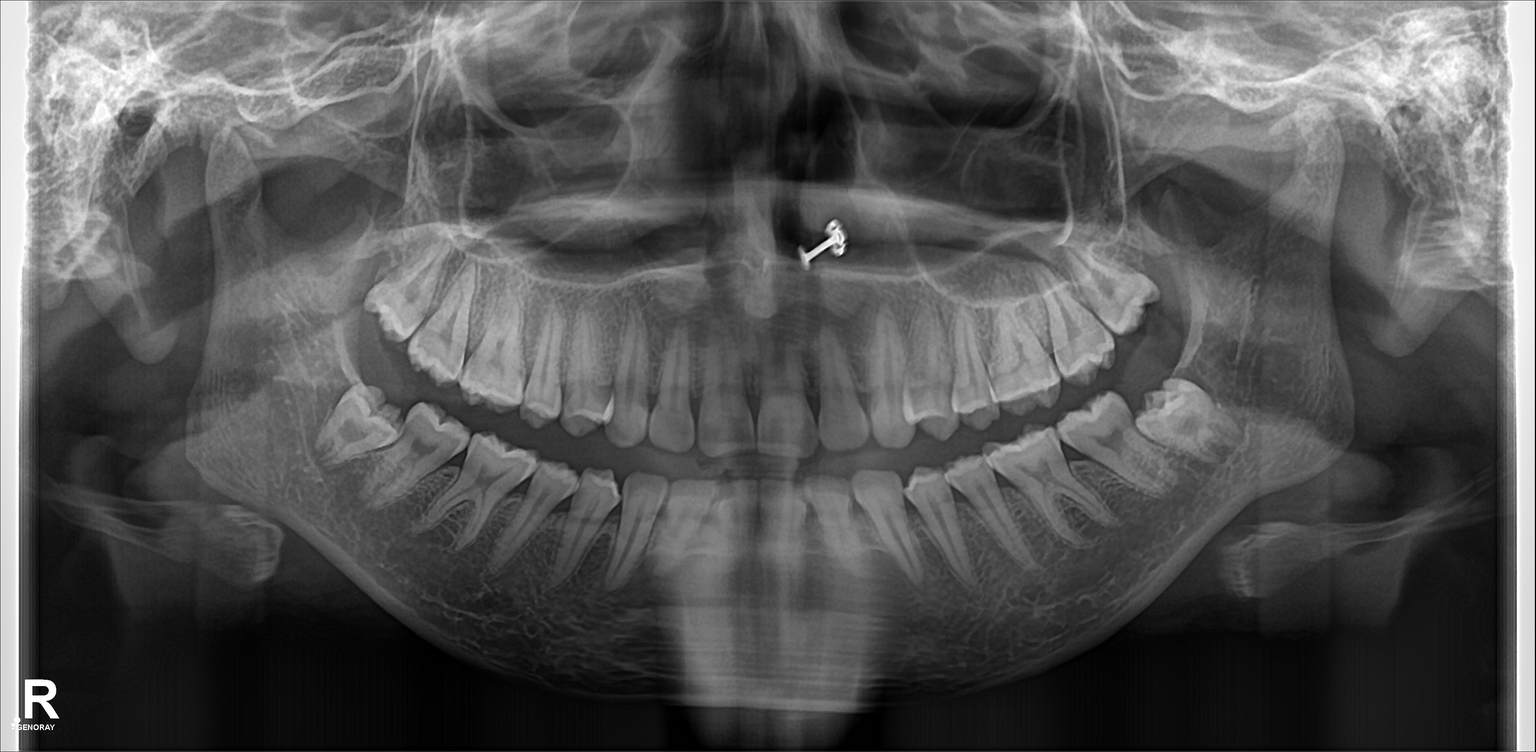Impacted Third Molar: (1071, 251, 1164, 335), (1140, 382, 1240, 459), (317, 395, 395, 454)
